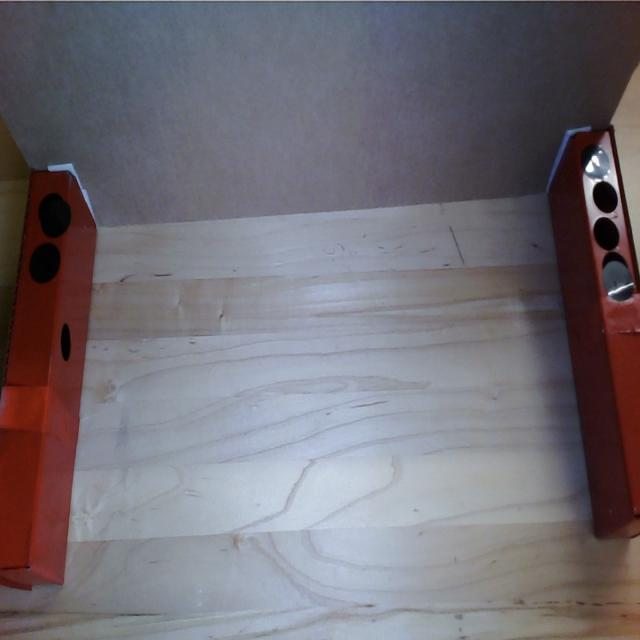Hole: (28, 242, 62, 288), (591, 214, 625, 254), (590, 178, 618, 218), (58, 320, 75, 366), (38, 192, 62, 224), (602, 252, 628, 280)
Sticker: (578, 136, 612, 180), (602, 262, 636, 302), (42, 196, 70, 238)
